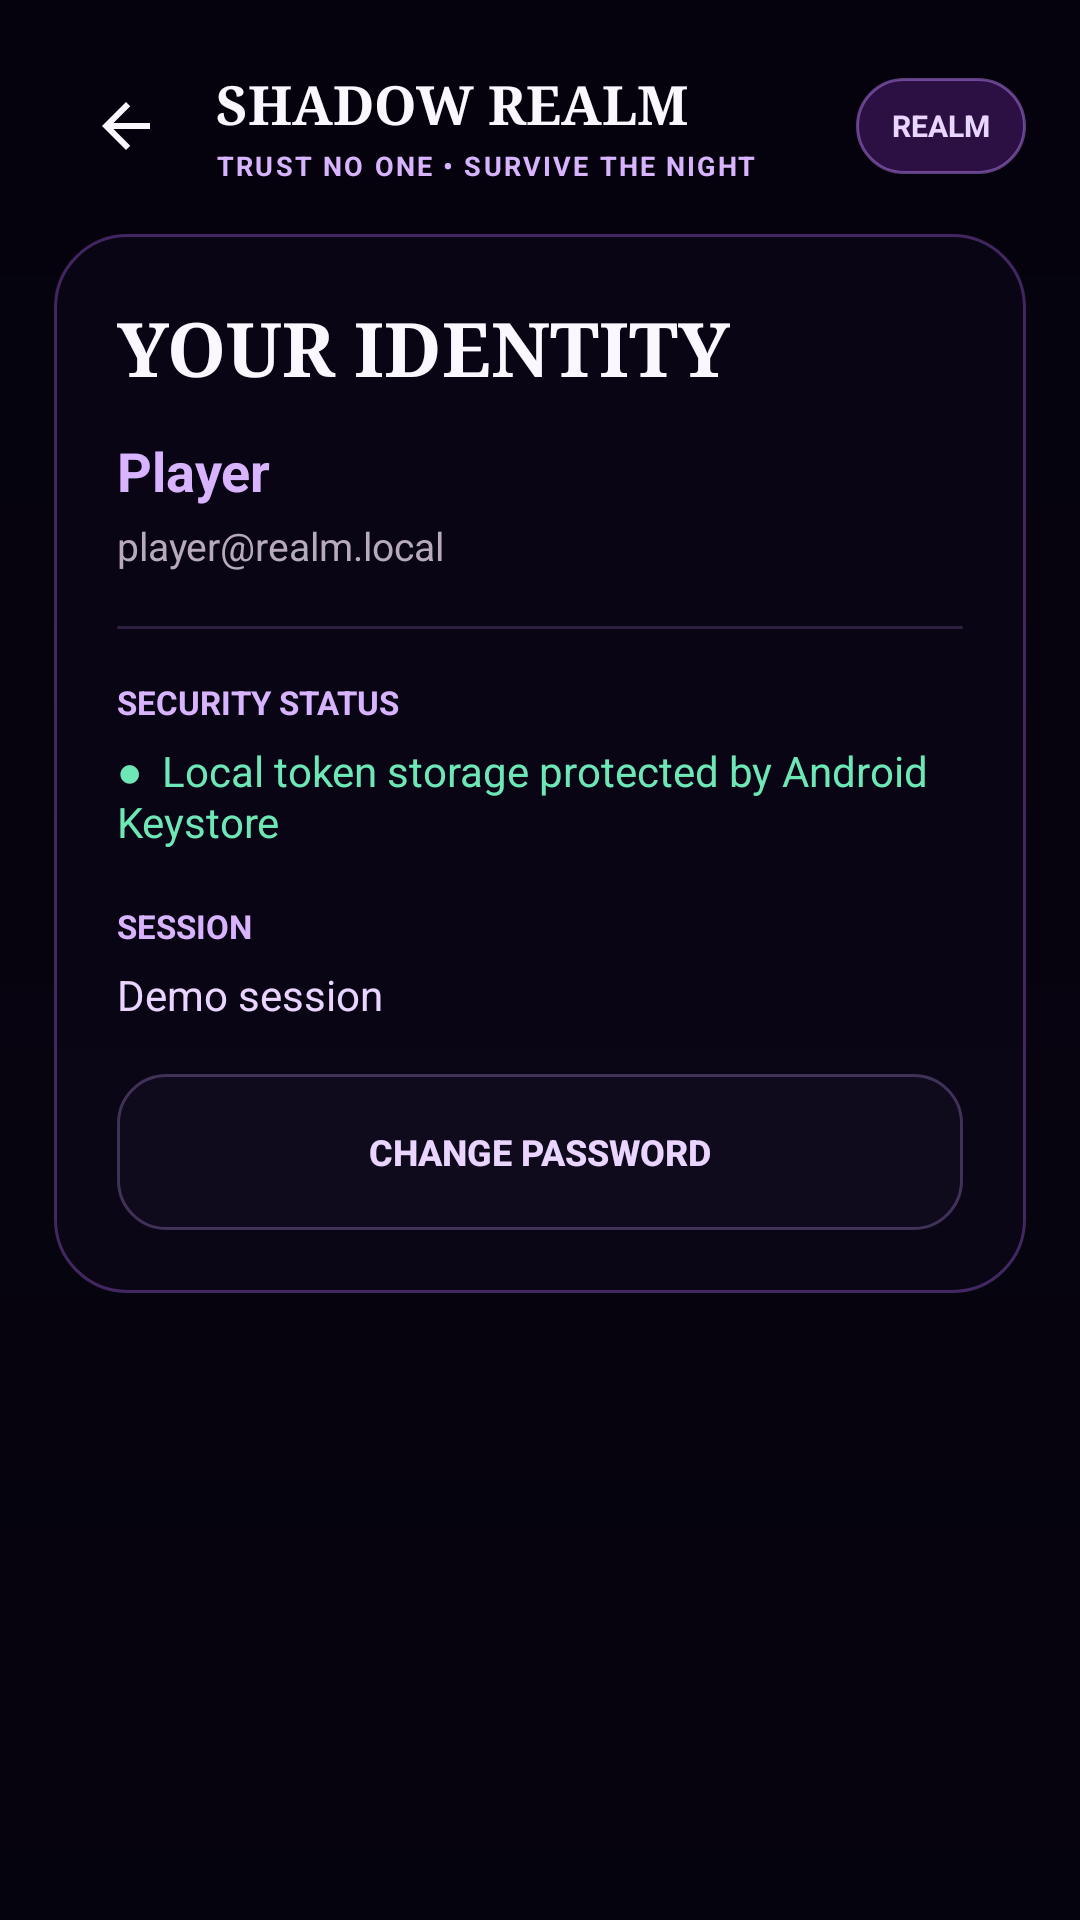

Icon click points for this 1080w x 1920h phone screenshot, format [x,y]:
Back: [126,126]
